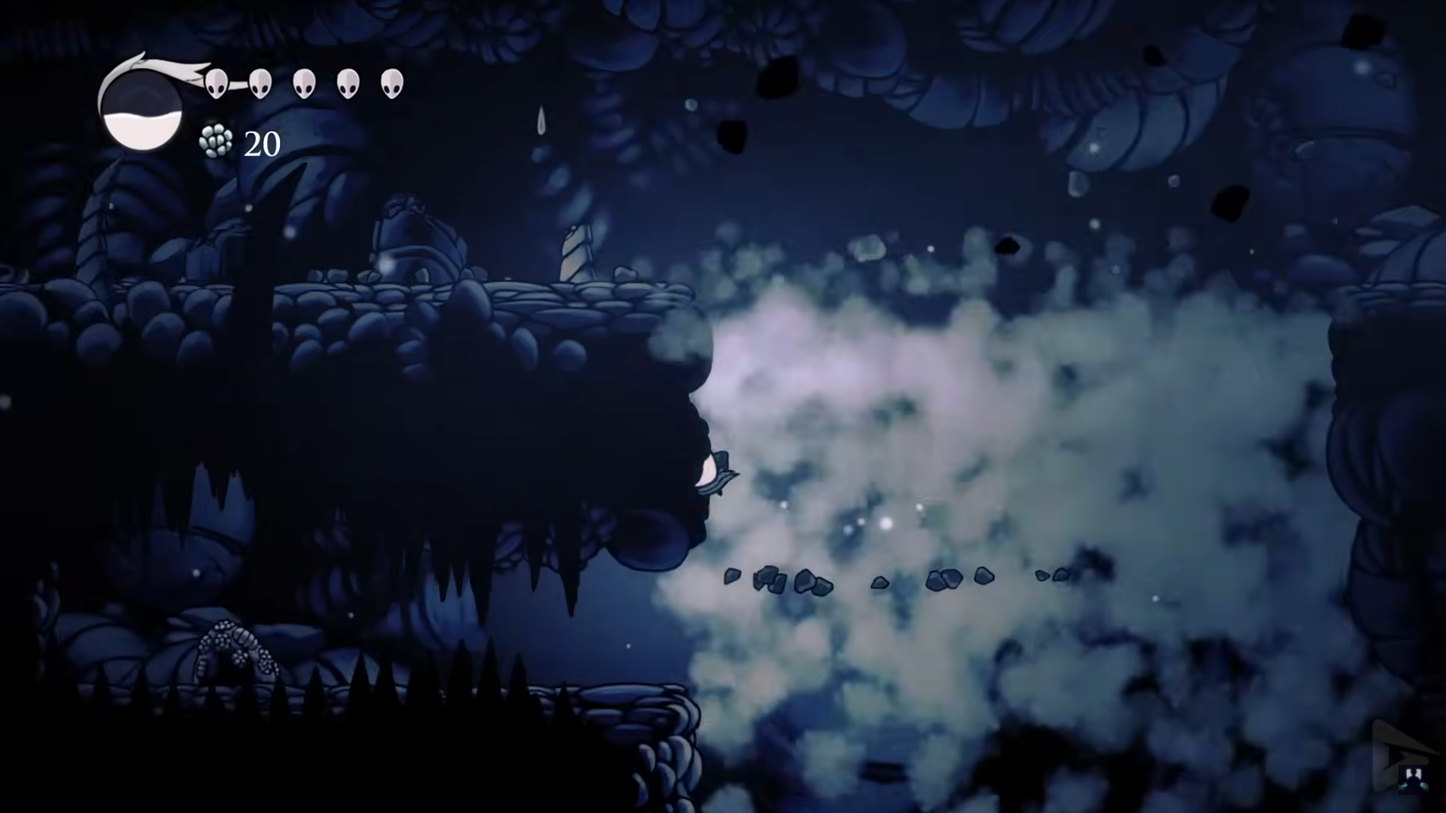HK: (689, 437, 742, 503)
